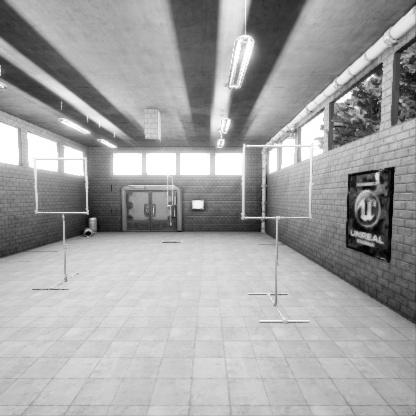gate: (244, 199, 320, 274), (39, 205, 95, 259), (167, 210, 173, 242)
